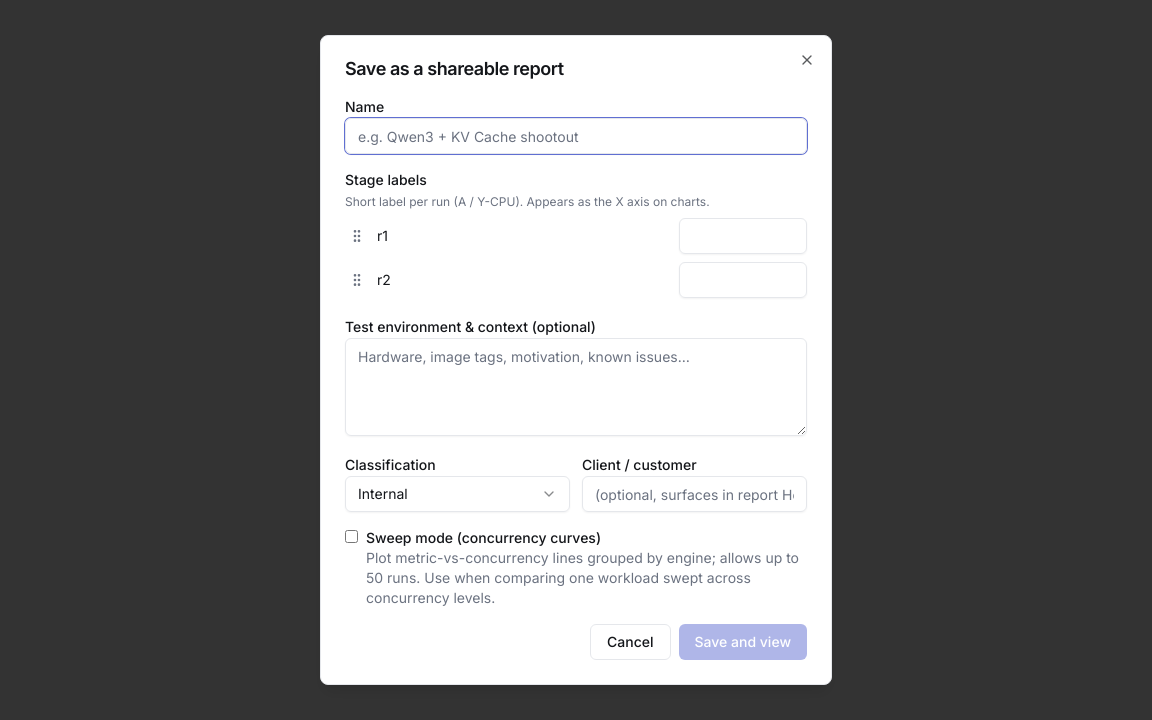
Test: SaveCompareDialog validation › submit is disabled until name and all labels provided
Expected: the button "Save and view" is disabled, [678,624,807,660]
Fill name only — still disabled
Type "Study A" into the field labelled "Name" at (576, 136), box [345,118,807,154]
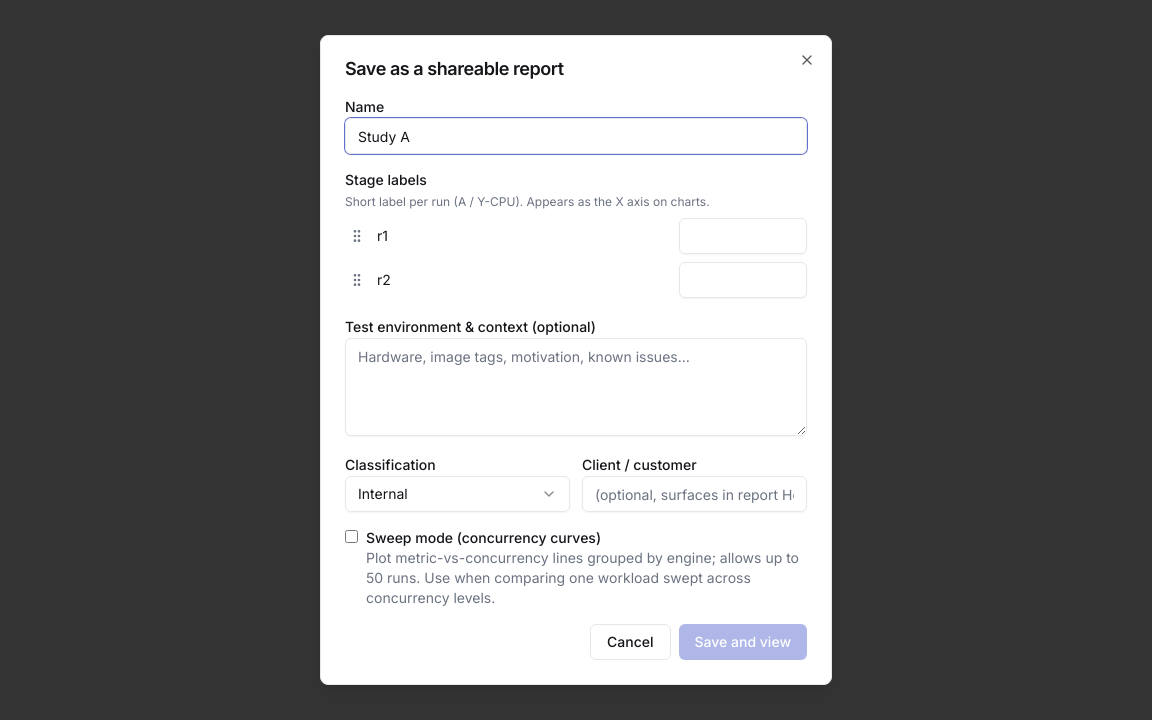
Expected: the button "Save and view" is disabled, [678,624,807,660]
Fill run-a label — still disabled (run-b missing)
Type "A" into the field labelled "r1" at (743, 236), box [679,218,807,254]
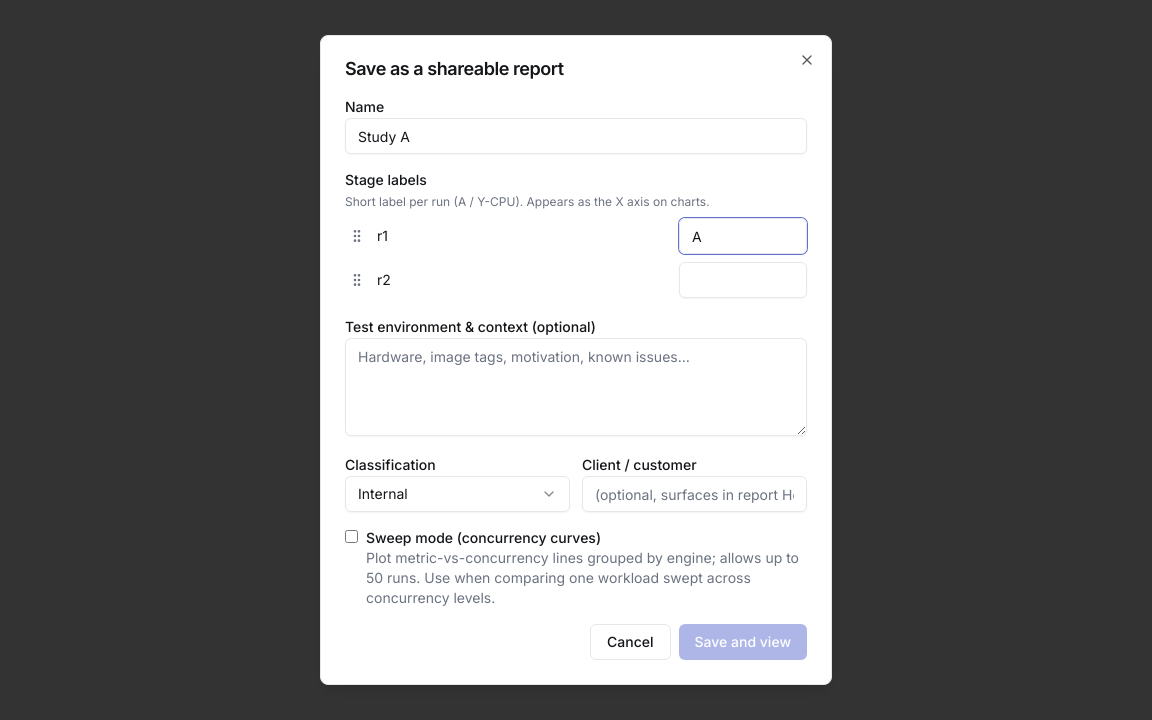
Expected: the button "Save and view" is disabled, [678,624,807,660]
Fill run-b label — now all three fields have values, submit should be enabled
Type "B" into the field labelled "r2" at (743, 280), box [679,262,807,298]
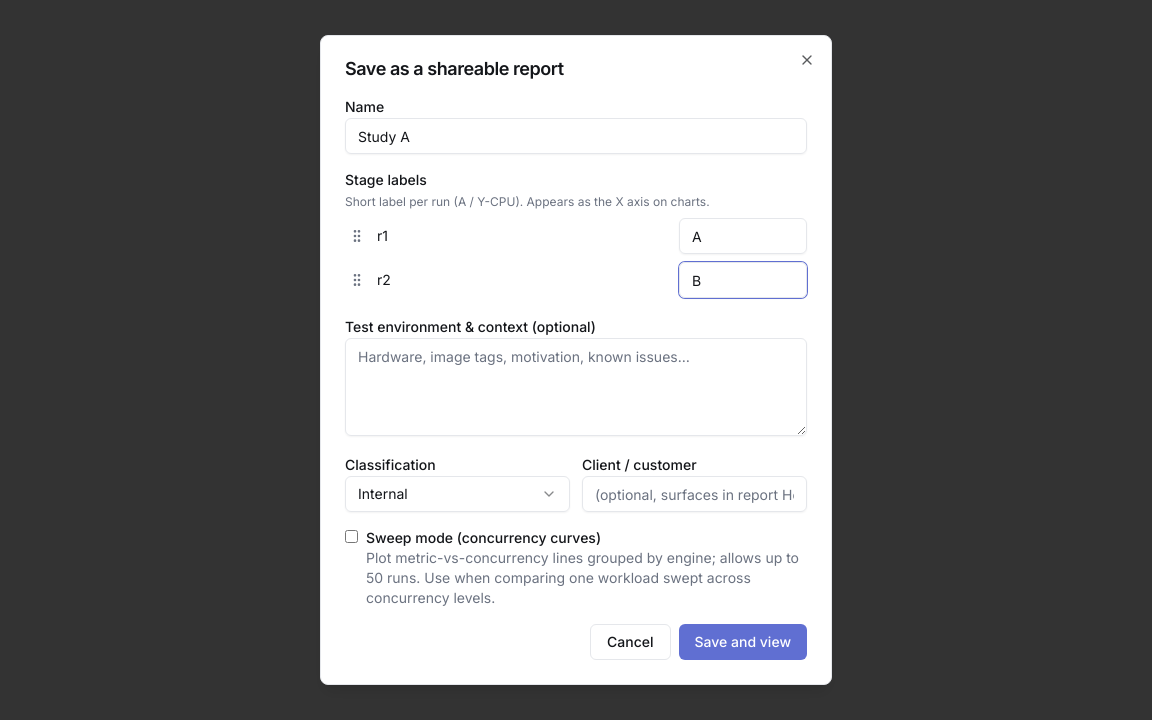
Expected: the button "Save and view" is enabled, [678,624,807,660]
